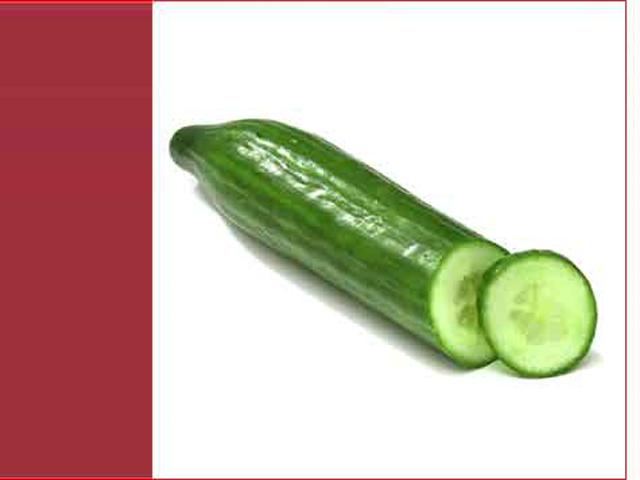cucumber: (169, 120, 515, 368)
